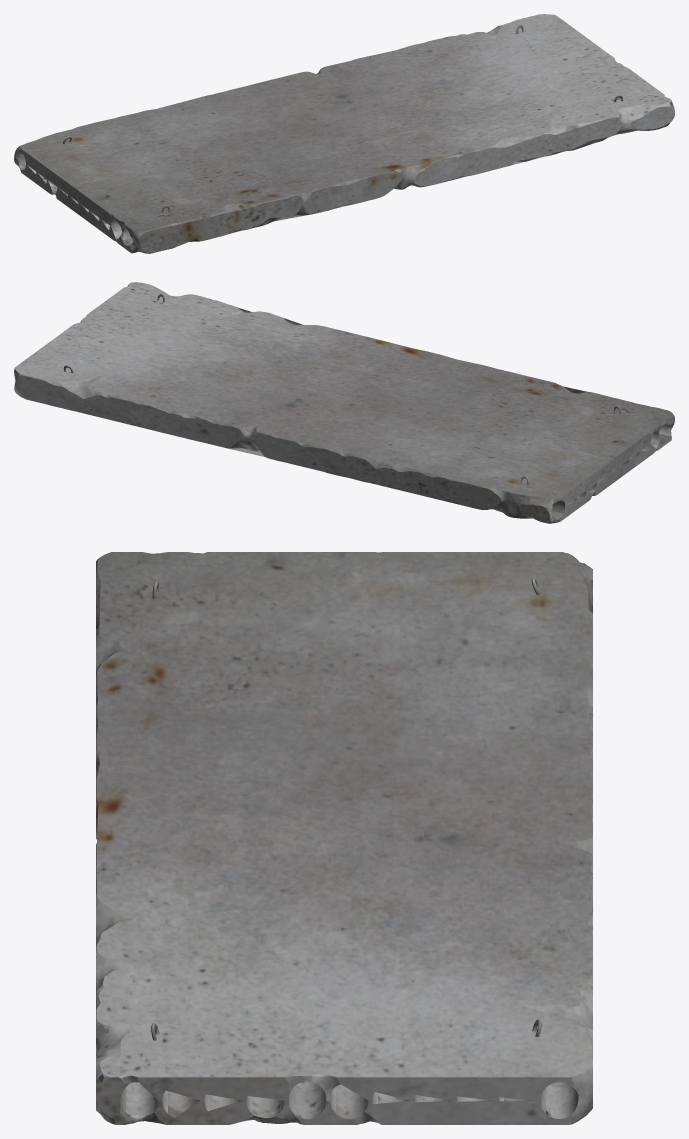
Rendered from plita_bet3_002.fbx.
3 views of the same model, one above another, from view 1: azimuth 30°, elevation 25°; view 2: azimuth 150°, elevation 25°; view 3: azimuth 270°, elevation 25° (orthographic). The views are drawn at different scales.
Parts seen in each view (by area): view 1: plita_bet_002_4; view 2: plita_bet_002_4; view 3: plita_bet_002_4.
Boxes of the visible parts, x1,y1,x2,y2 form: plita_bet_002_4: (14, 14, 674, 253); plita_bet_002_4: (14, 282, 674, 523); plita_bet_002_4: (96, 552, 592, 1124).
Bounding box in the file's own units: 600 × 32.9 × 240.
Materials: 1 (1 with a texture image).
